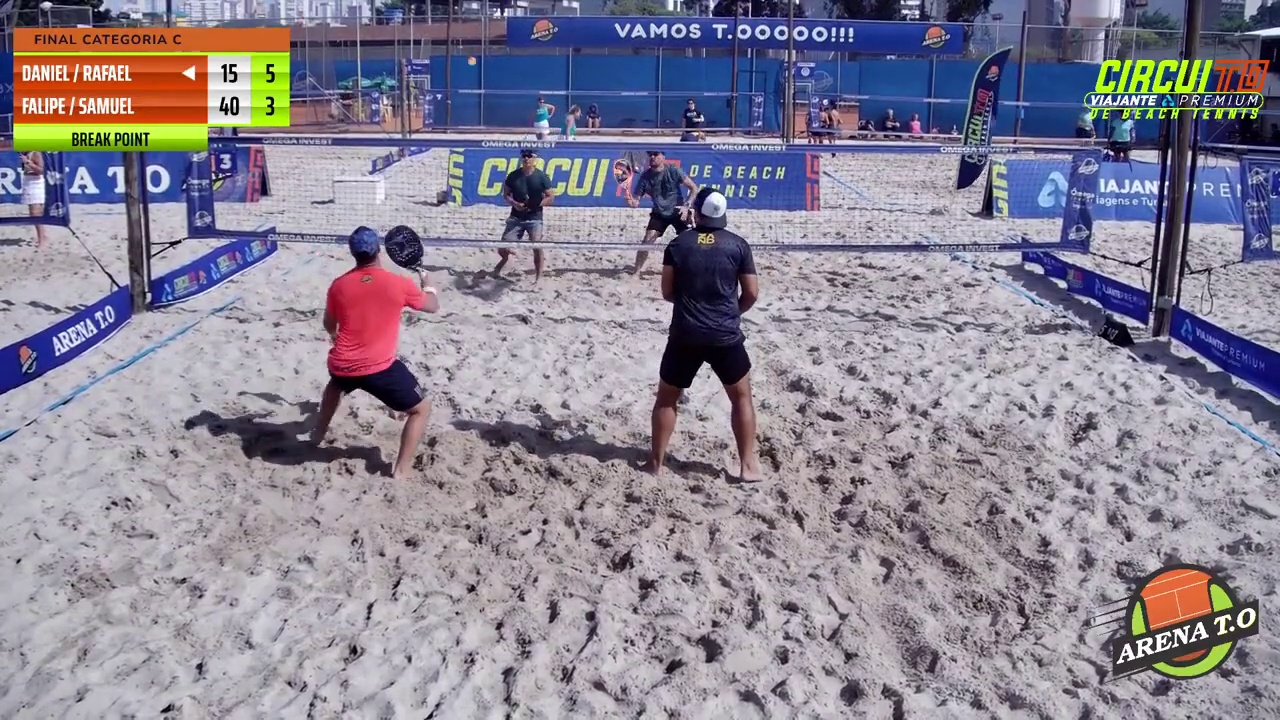court_line: (538, 0, 677, 523)
